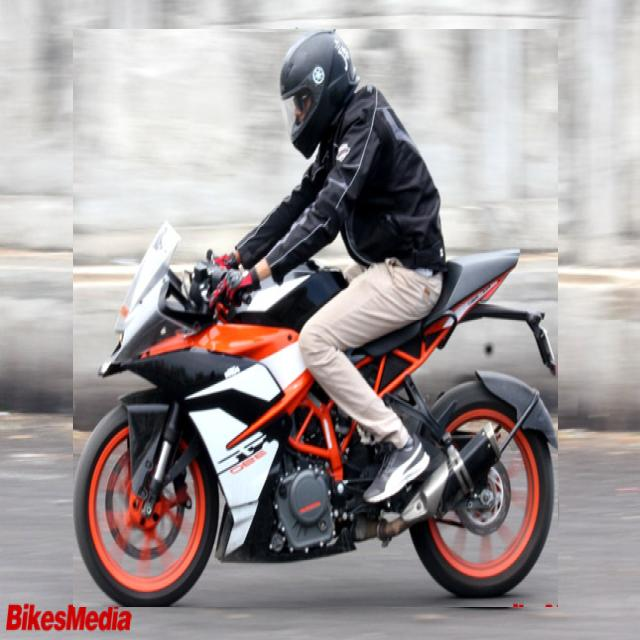motorcycle: (74, 30, 558, 607)
